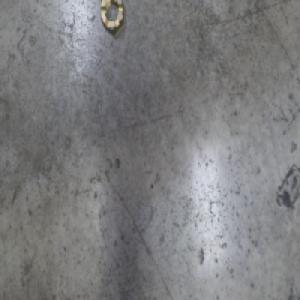Nut: (99, 0, 125, 35)
